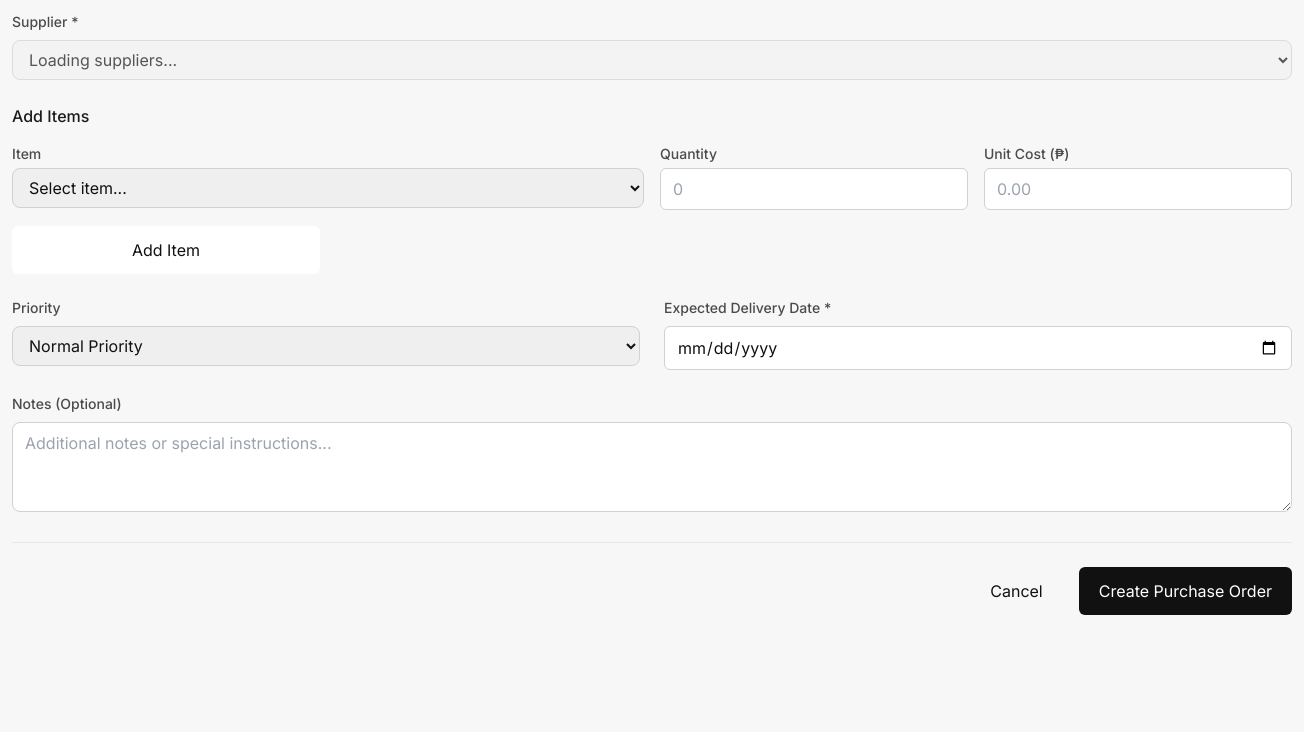
Test: PurchaseOrderForm › shows validation errors for required fields
This screenshot has width=1304, height=732.
# Try to submit without filling required fields
Step 1. Click the button "Create Purchase Order" → (1185,591), box [1079, 567, 1292, 615]
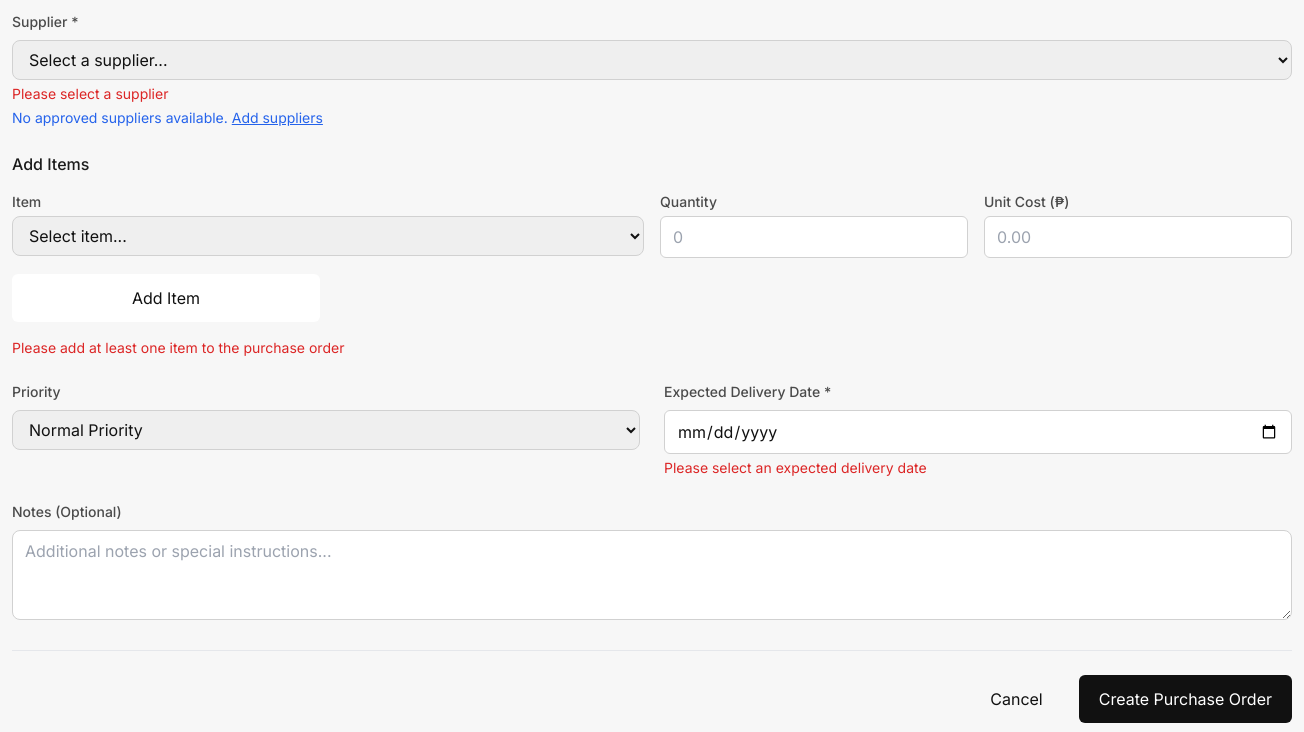
Result: the text "Please select a supplier" is shown at [12, 85, 168, 102]
Result: the text "Please add at least one item to the purchase order" is shown at [12, 339, 344, 356]
Result: the text "Please select an expected delivery date" is shown at [664, 459, 927, 476]
